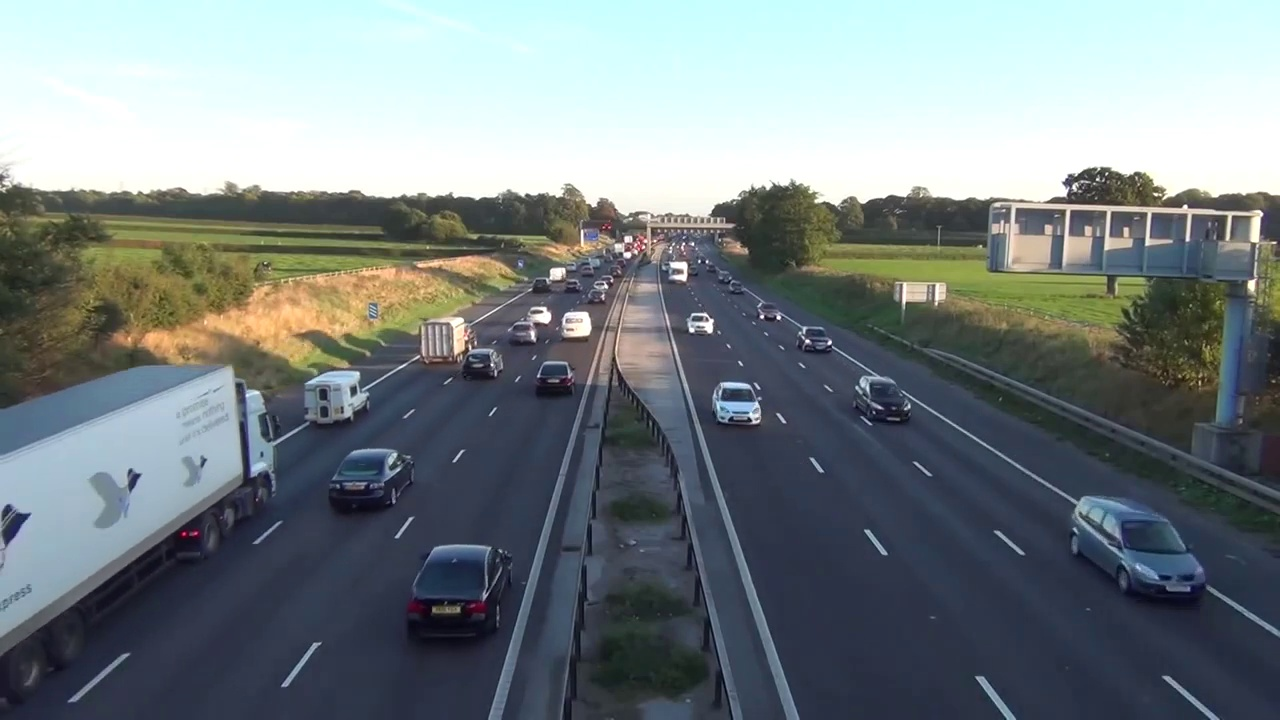bus: (1069, 497, 1206, 605), (405, 542, 517, 642), (327, 447, 415, 511), (302, 370, 370, 426), (852, 376, 912, 425), (420, 317, 476, 363), (710, 381, 762, 425), (535, 361, 576, 396), (459, 348, 502, 379), (794, 326, 833, 355), (559, 311, 592, 341), (684, 312, 716, 335), (508, 323, 536, 346), (756, 302, 783, 322), (526, 306, 551, 326)
car: (0, 363, 282, 710)
